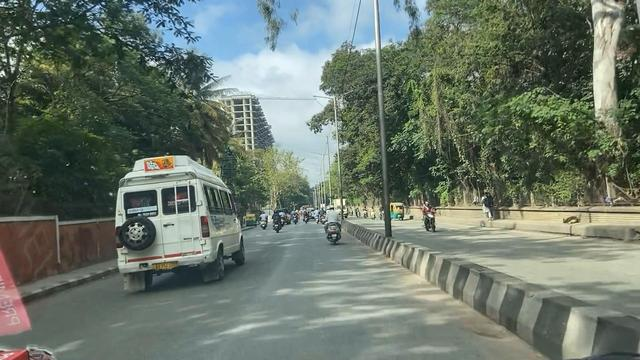HMV: (116, 176, 218, 287)
LMV: (327, 204, 341, 243), (273, 206, 282, 238)
